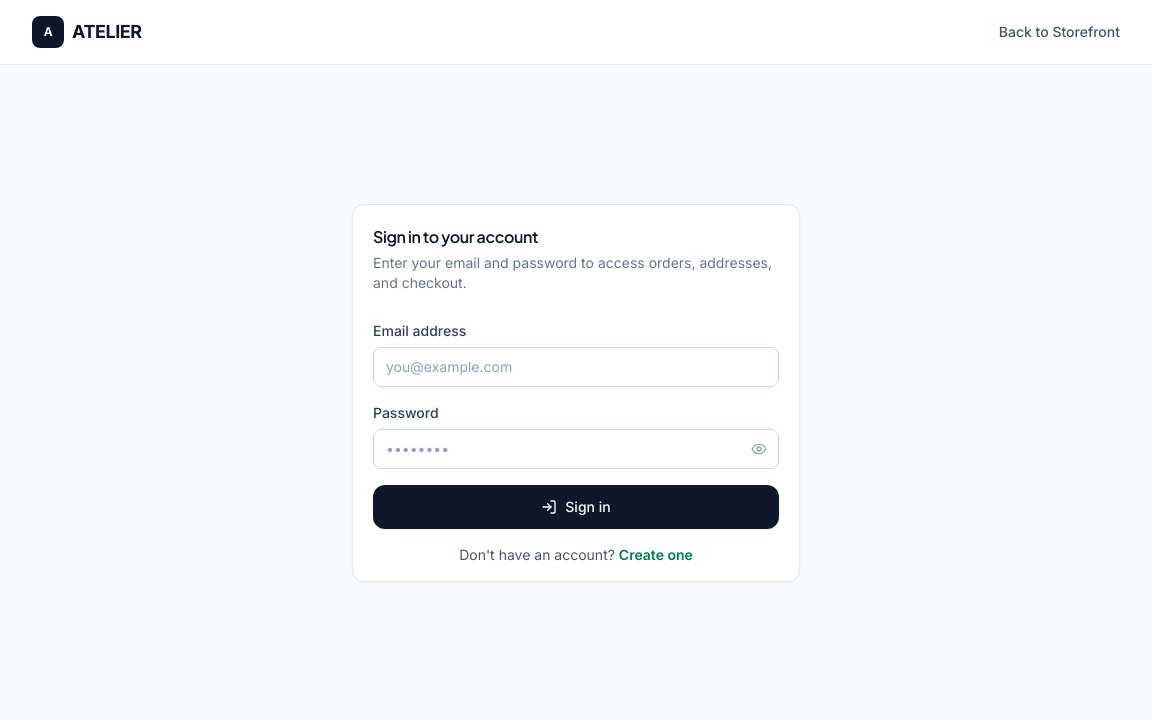
Test: Authentication and Route Protection › displays server error alert when login fails with 401
The image size is (1152, 720).
Type "wrong@example.com" into the field labelled "Email address".
click(576, 366); type("wrong@example.com")  # box [373,346,779,386]
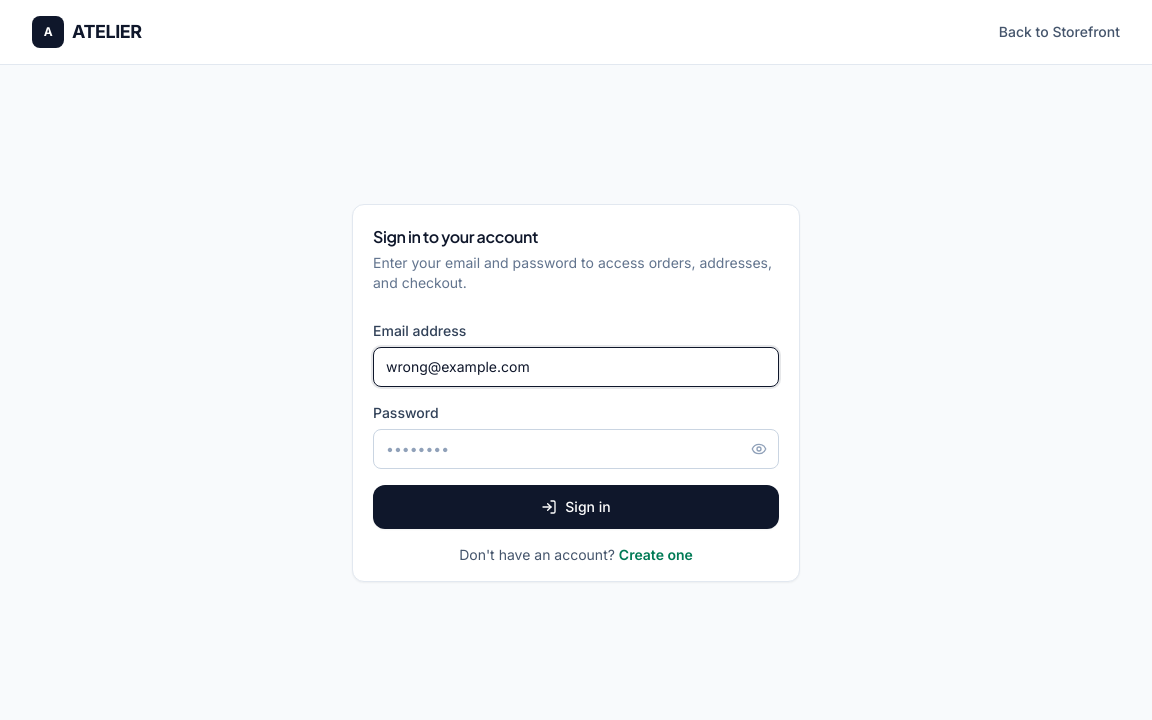
Type "wrongpassword" into the password field labelled "Password".
click(576, 448); type("wrongpassword")  # box [373,428,779,468]
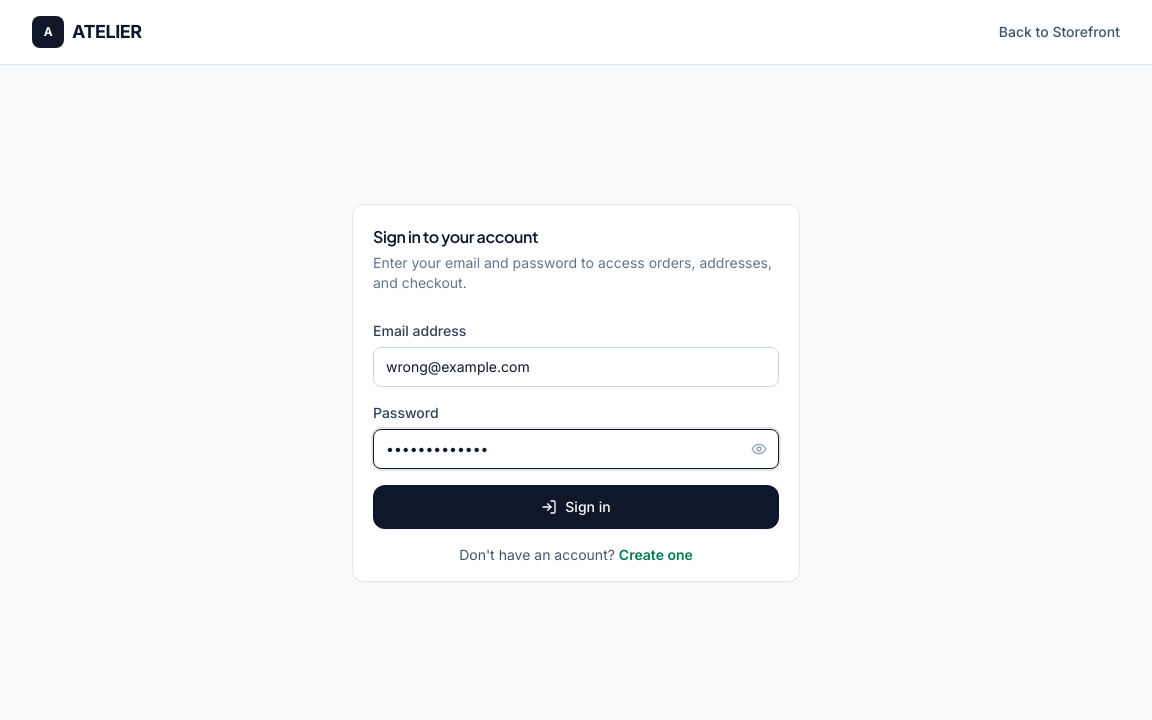
Click the button "Sign in".
click(576, 506)  # box [373,484,779,528]
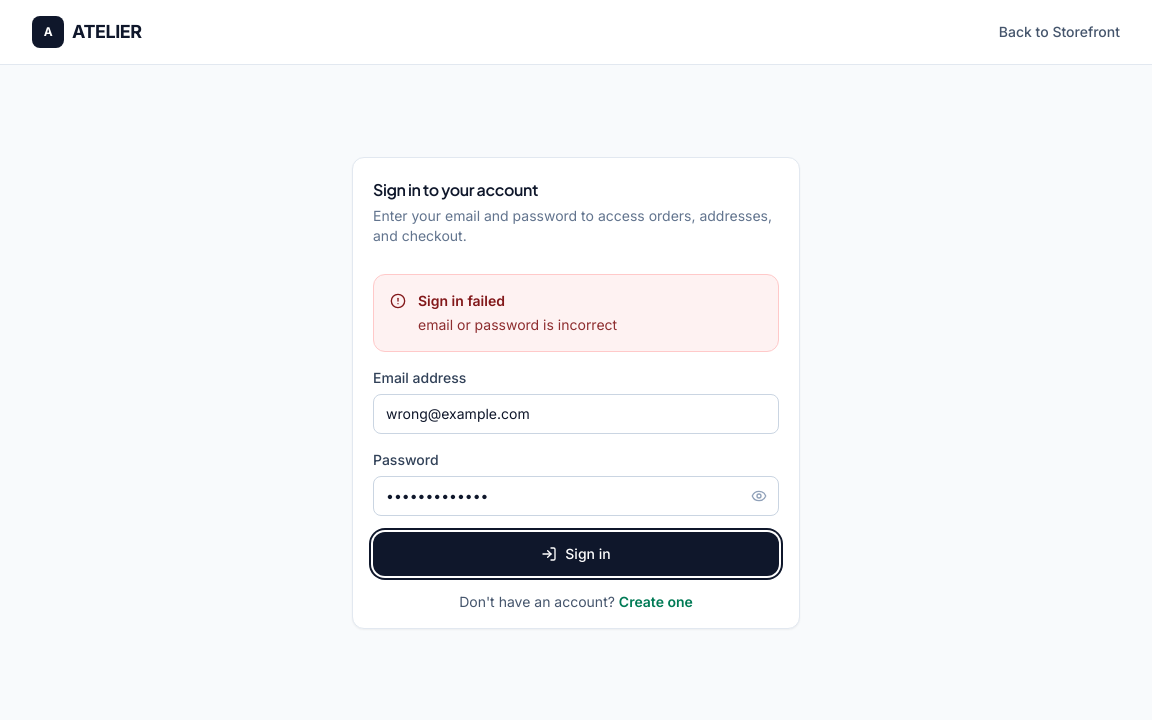
Expected: the text "email or password is incorrect" is shown, [418,316,617,332]
